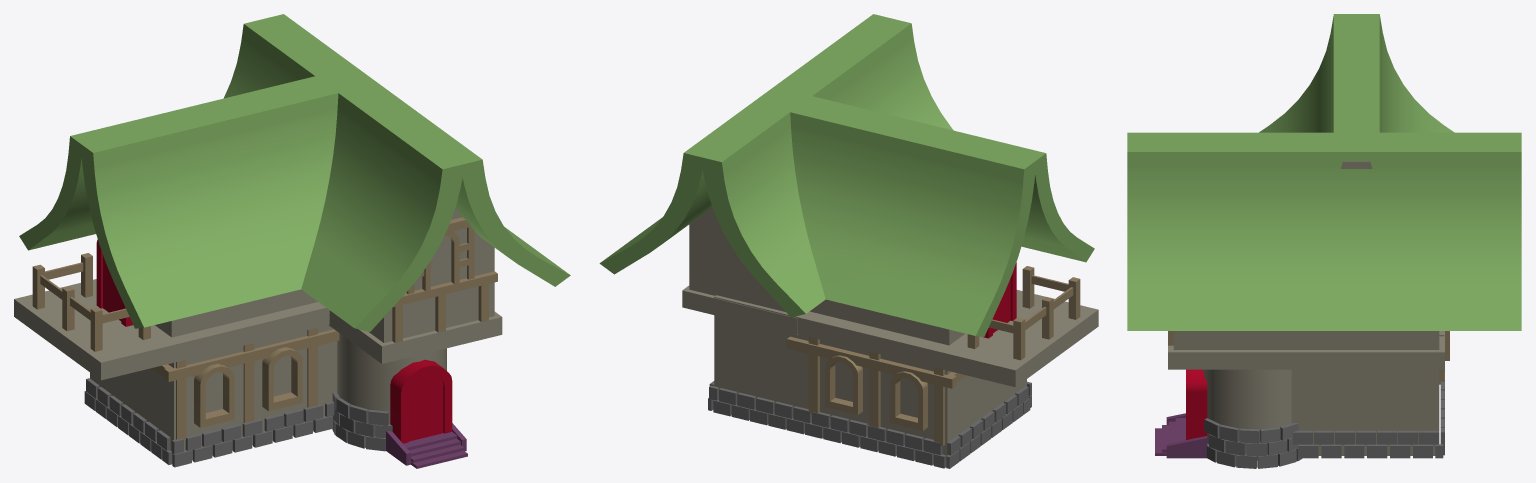
File: Tavern.fbx
3 views of the same model, side by side, from view 1: azimuth 30°, elevation 25°; view 2: azimuth 150°, elevation 25°; view 3: azimuth 270°, elevation 25° (orthographic). The views are drawn at different scales.
Parts seen in each view (by area): view 1: Roof, Tavern_Base, Wood_Planks, Brick, Door, Windows, Stairs; view 2: Roof, Tavern_Base, Brick, Wood_Planks, Windows, Door; view 3: Roof, Tavern_Base, Brick, Stairs, Door.
Part boxes in pixels (bbox=[...]): Roof: bbox=[19, 14, 570, 331]; Tavern_Base: bbox=[14, 207, 502, 460]; Wood_Planks: bbox=[32, 217, 497, 440]; Brick: bbox=[84, 378, 392, 467]; Door: bbox=[96, 239, 452, 443]; Windows: bbox=[194, 347, 302, 427]; Stairs: bbox=[386, 423, 467, 468]; Roof: bbox=[599, 14, 1094, 336]; Tavern_Base: bbox=[682, 206, 1098, 455]; Brick: bbox=[708, 381, 1031, 468]; Wood_Planks: bbox=[786, 266, 1080, 446]; Windows: bbox=[825, 355, 927, 430]; Door: bbox=[983, 262, 1016, 338]; Roof: bbox=[1127, 14, 1521, 330]; Tavern_Base: bbox=[1168, 161, 1444, 460]; Brick: bbox=[1204, 369, 1444, 468]; Stairs: bbox=[1155, 413, 1207, 458]; Door: bbox=[1186, 369, 1207, 439].
Size of the model in its own units: 111 by 82.36 by 96.74.
